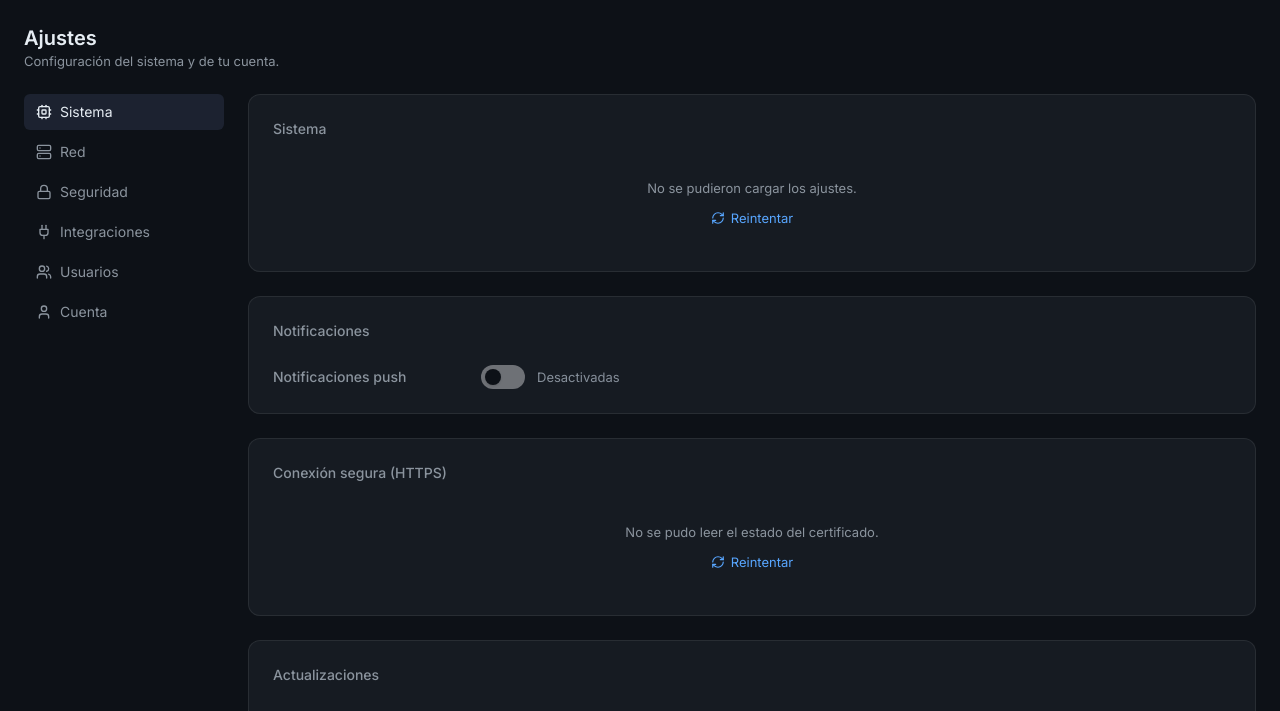
Test: SettingsPage: /system/settings falla › lo que depende de ese dato dice que no se pudo cargar y no ofrece guardar sobre defectos
The image size is (1280, 711).
Expected: the text "No se pudieron cargar los ajustes." is shown, [647,179,857,197]
Click the button "Seguridad" at (124, 192), box [24,174,224,210]
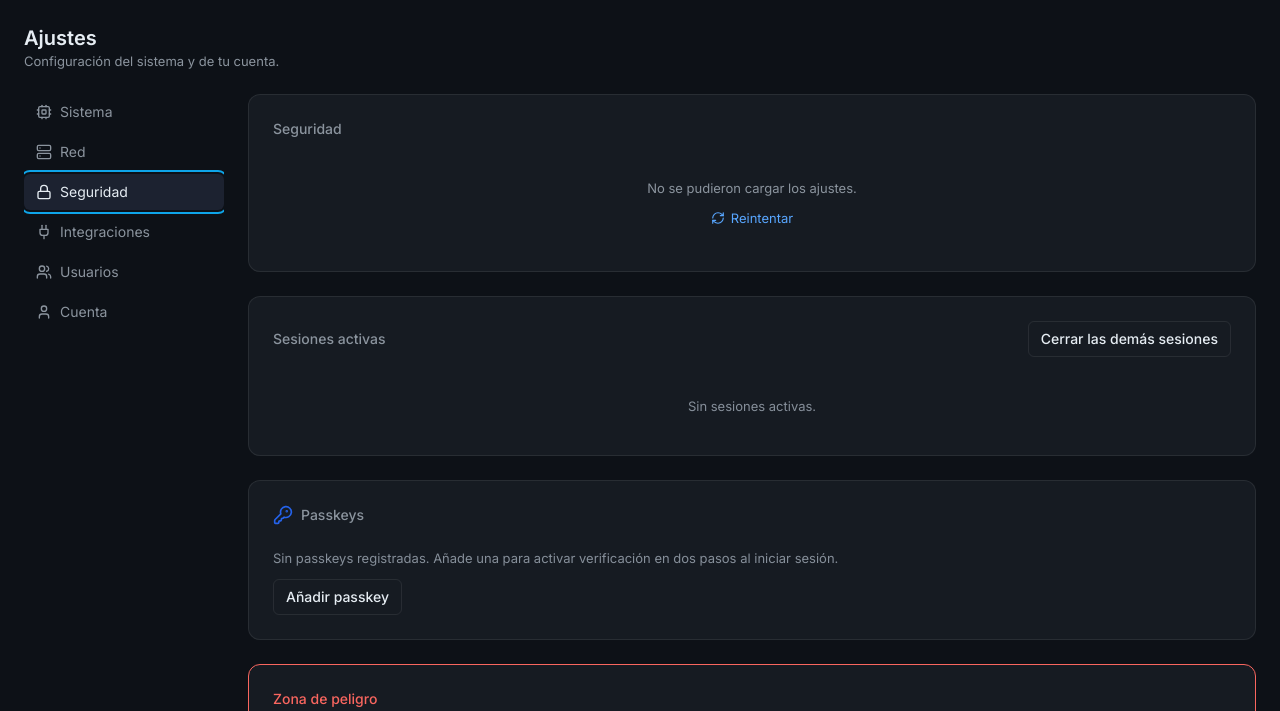
Expected: the text "No se pudieron cargar los ajustes." is shown, [647,179,857,197]
Click the button "Sistema" at (124, 112), box [24,94,224,130]
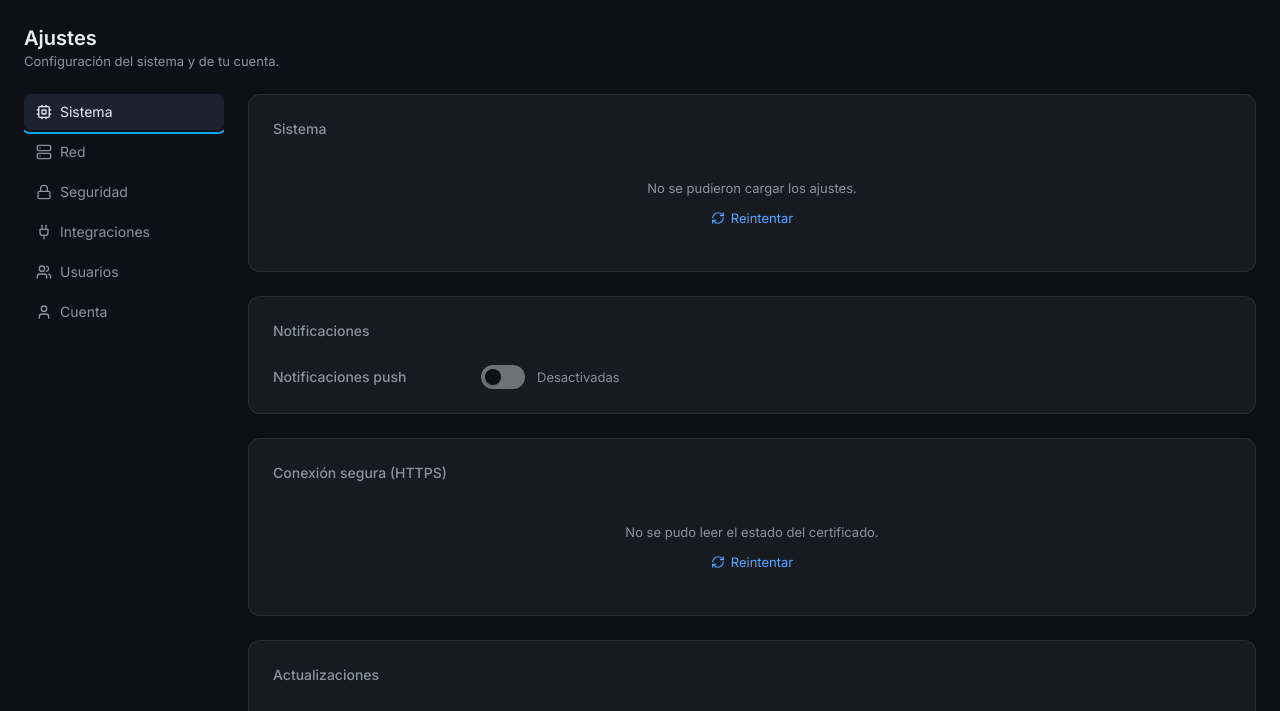
Click the button "Reintentar" below "No se pudieron cargar los ajustes." at (752, 218), box [703,205,801,231]
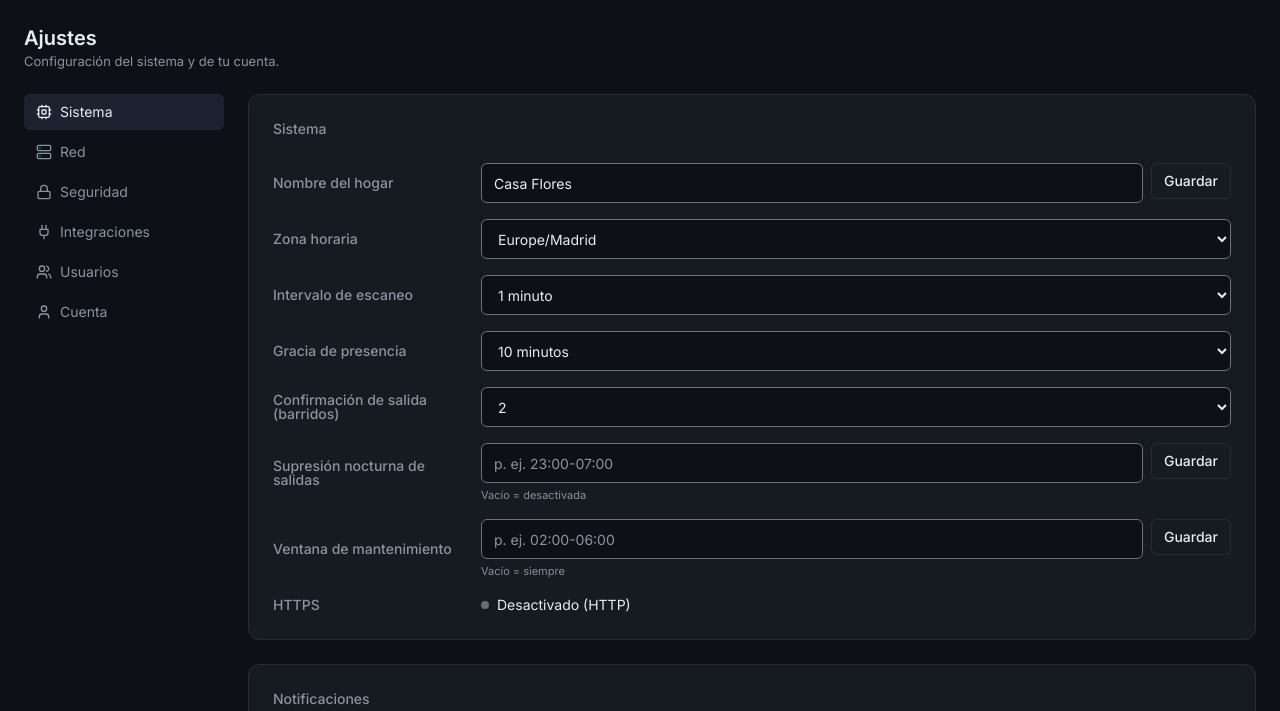
Expected: the button with aria-label "Guardar: Nombre del hogar" is shown, [1151,163,1231,199]
Expected: the text "No se pudieron cargar los ajustes." is gone
